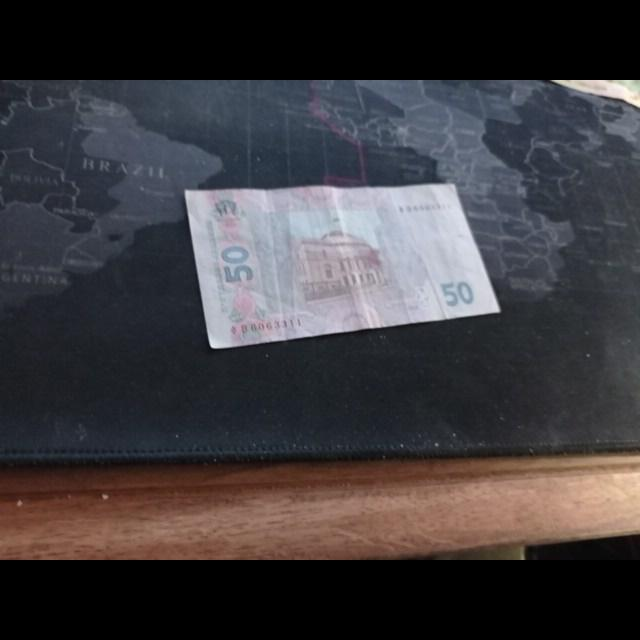50uah: (184, 183, 502, 349)
